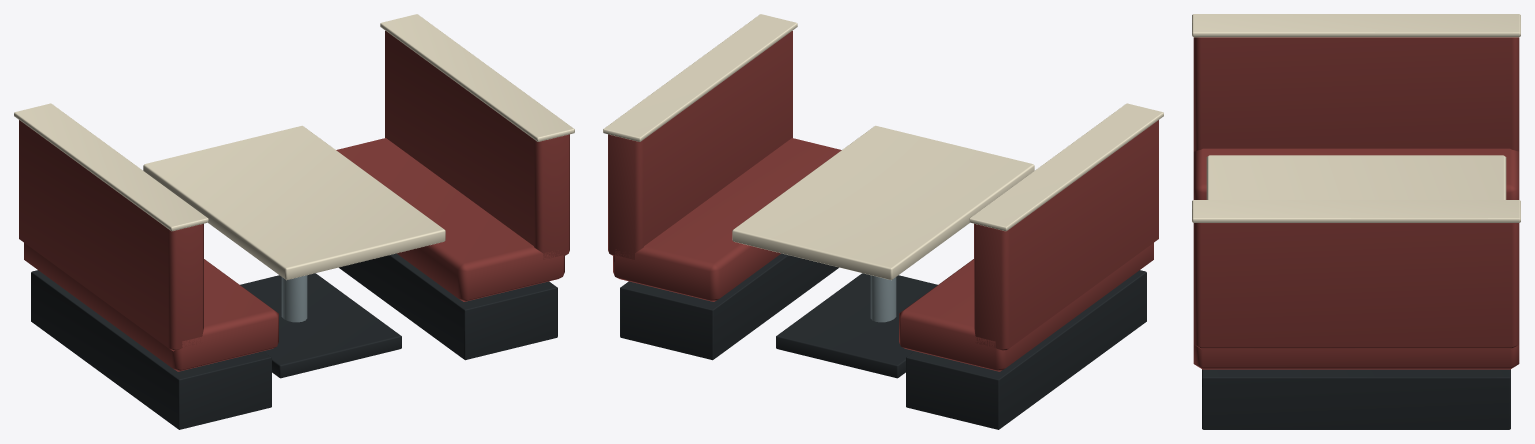
The model's file is S045_diner_booth_rebuilt.glb.
3 views of the same model, side by side, from view 1: azimuth 30°, elevation 25°; view 2: azimuth 150°, elevation 25°; view 3: azimuth 270°, elevation 25° (orthographic). The views are drawn at different scales.
Parts seen in each view (by area): view 1: Burgundy_upholstery, Warm_ivory, Deep_joint_recess, Brushed_steel; view 2: Burgundy_upholstery, Warm_ivory, Deep_joint_recess, Brushed_steel; view 3: Burgundy_upholstery, Warm_ivory, Deep_joint_recess.
Part boxes in pixels (<box>): Burgundy_upholstery: <box>19,31,569,371</box>; Warm_ivory: <box>14,14,574,280</box>; Deep_joint_recess: <box>31,253,557,429</box>; Brushed_steel: <box>281,275,307,322</box>; Burgundy_upholstery: <box>608,31,1158,371</box>; Warm_ivory: <box>603,14,1163,280</box>; Deep_joint_recess: <box>620,253,1146,429</box>; Brushed_steel: <box>870,275,896,322</box>; Burgundy_upholstery: <box>1193,37,1519,369</box>; Warm_ivory: <box>1192,14,1520,222</box>; Deep_joint_recess: <box>1202,369,1510,429</box>.
Size of the model in its own units: 2.51 by 1.25 by 1.7.
